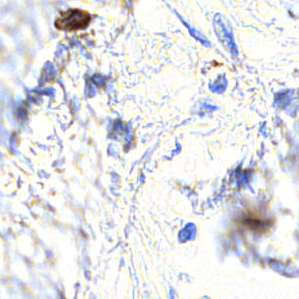Lymphocyte: (52, 7, 92, 31)
